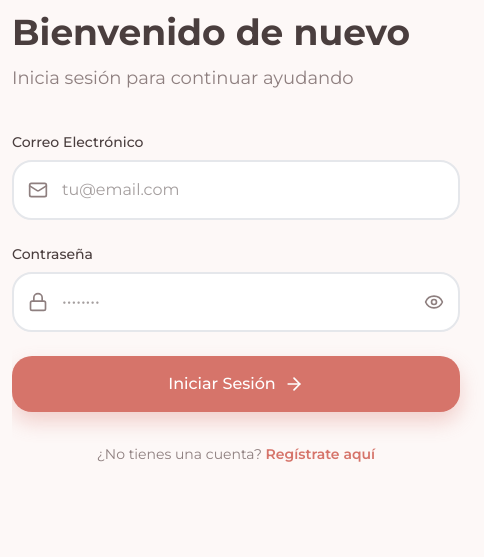
Scenario: LoginForm › muestra error genérico cuando no hay mensaje
Type "user@hadassa.com" into the field labelled "Correo Electrónico".
click(236, 190); type("user@hadassa.com")  # box [12,160,460,220]
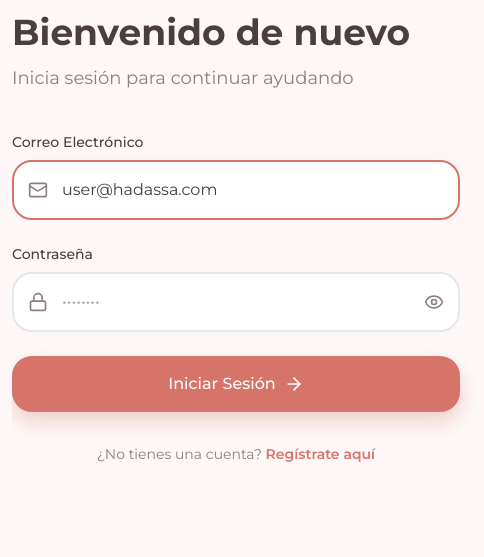
Type "wrongpass" into the password field labelled "Contraseña".
click(236, 302); type("wrongpass")  # box [12,272,460,332]
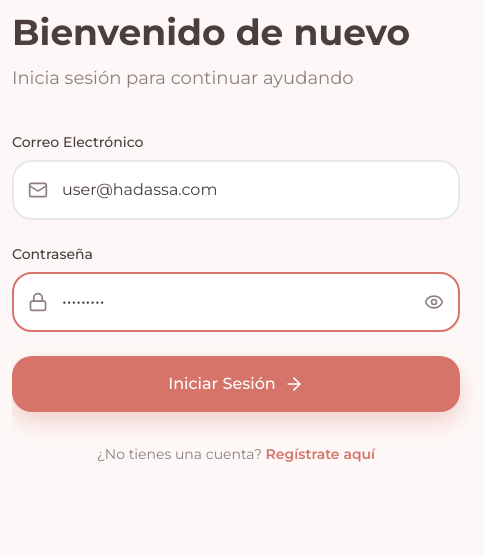
Submit the form "Correo Electrónico Contraseña Iniciar Sesión", box [12,132,460,412]
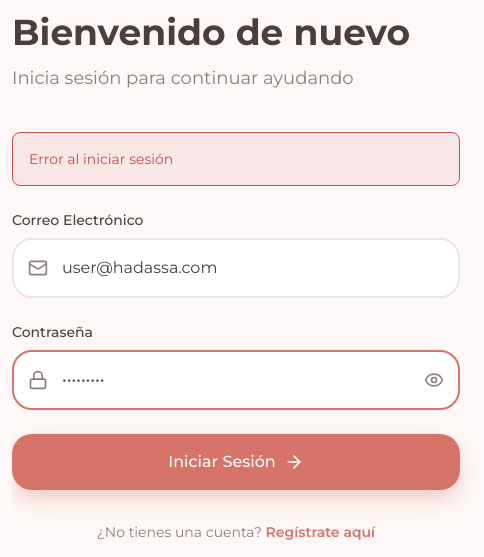
Result: the text "Error al iniciar sesión" is shown at [12,132,460,186]
